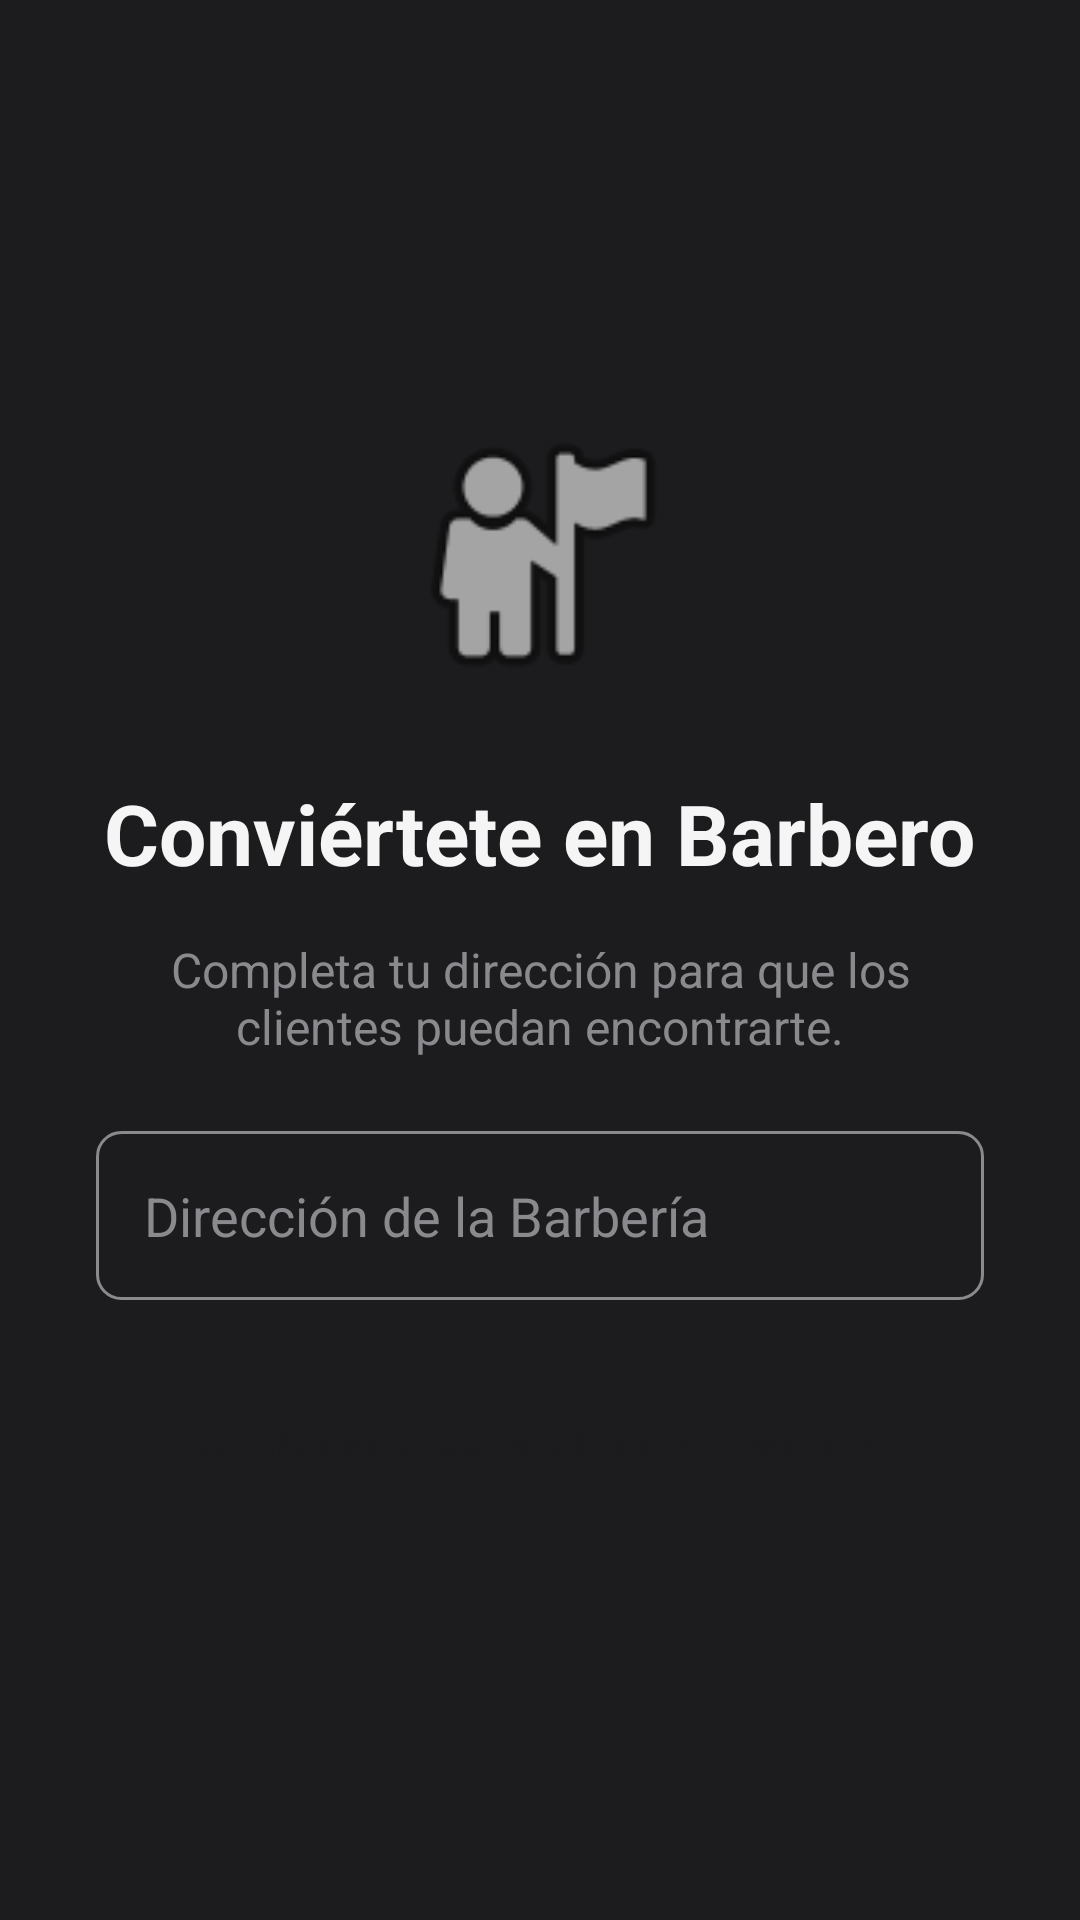

Icon click points for this 1080×1920 phone screenshot, format point (x, y):
myplaces: point (543, 555)
